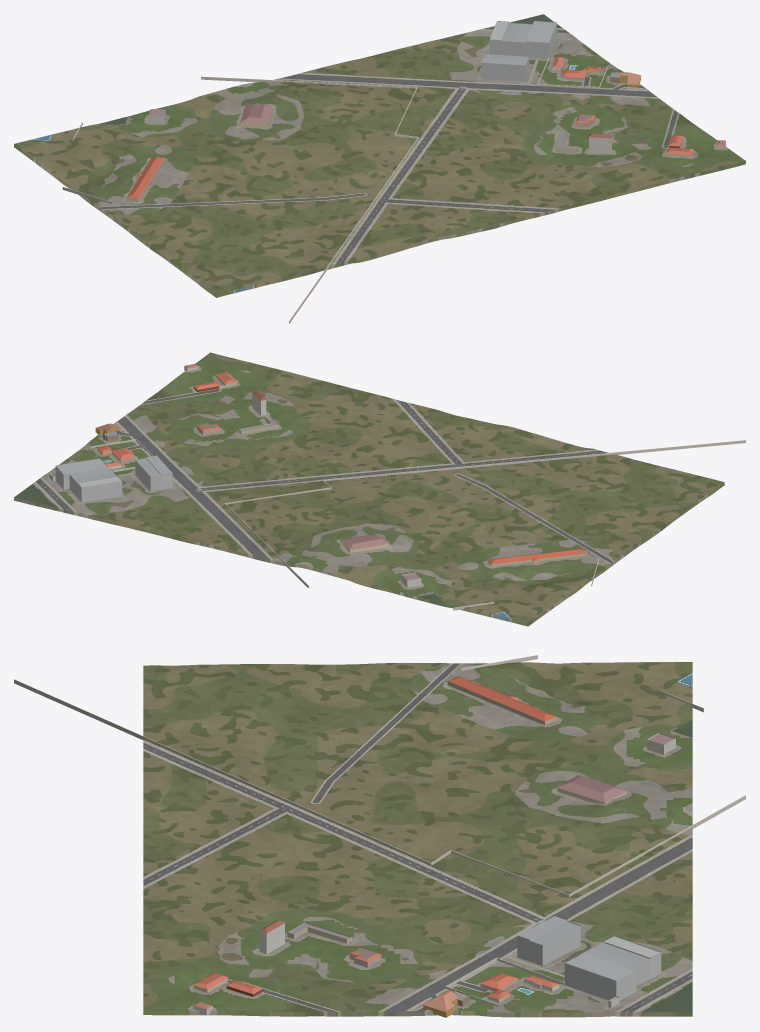
3 renders of one model, top to bottom at view 1: azimuth 30°, elevation 25°; view 2: azimuth 150°, elevation 25°; view 3: azimuth 270°, elevation 25°, orthographic. The views are drawn at different scales.
Visible parts, largest first — view 1: terrain, buildings; view 2: terrain, buildings; view 3: terrain, buildings.
Boxes of the visible parts, <box> form: terrain: <box>14,14,745,297</box>; buildings: <box>62,20,725,323</box>; terrain: <box>14,352,724,626</box>; buildings: <box>49,364,745,610</box>; terrain: <box>143,662,692,1017</box>; buildings: <box>14,655,745,1017</box>.
Size of the model in its own units: 515 by 21.4 by 441.
2 materials, 1 textured.
